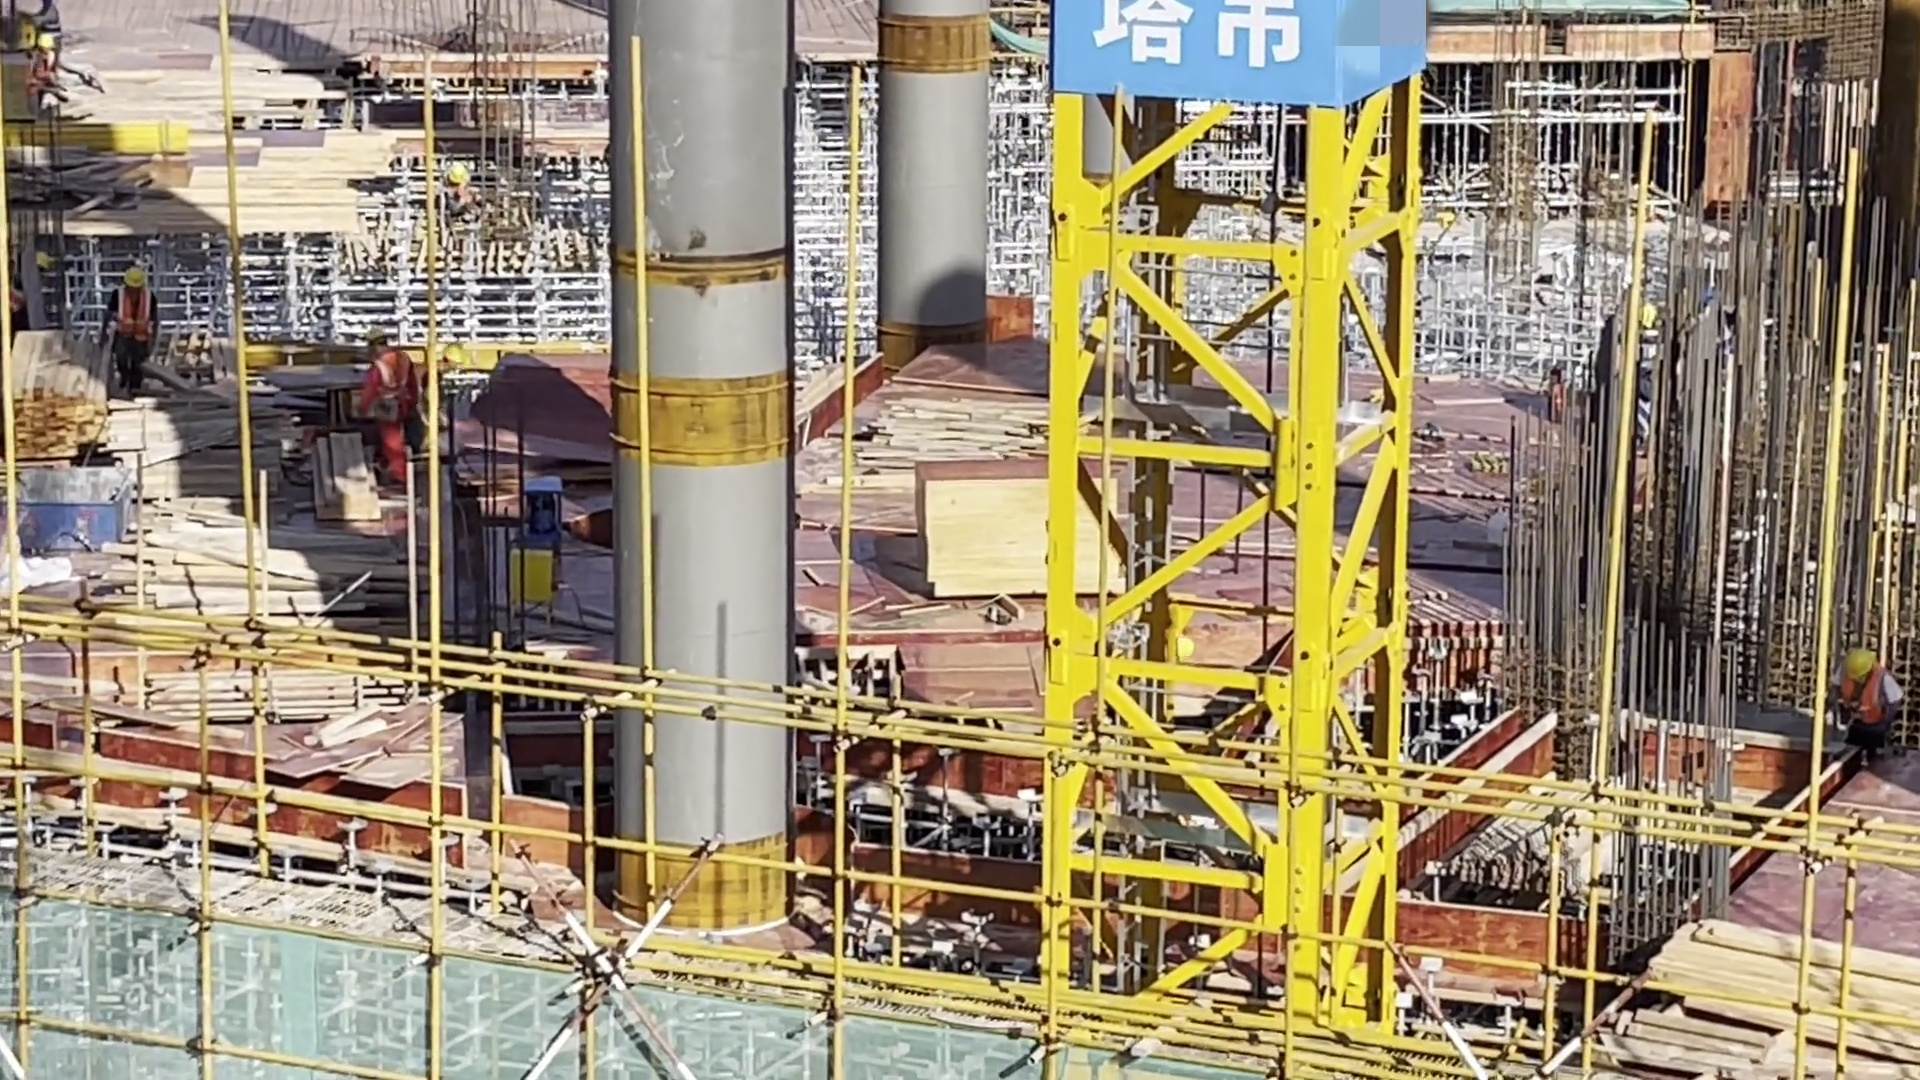board: (912, 463, 1130, 605)
helmet: (1840, 649, 1880, 685), (118, 262, 147, 293), (445, 342, 468, 376), (445, 162, 472, 189), (29, 28, 54, 57), (365, 330, 390, 354)
hopper: (15, 462, 141, 567)
person: (356, 329, 431, 509), (1830, 649, 1904, 794), (106, 258, 161, 408), (26, 22, 80, 116), (444, 156, 481, 237)
slogan: (1056, 1, 1421, 99)
vest: (364, 347, 418, 424), (1835, 668, 1885, 734), (112, 287, 158, 353), (24, 50, 68, 105)
wood: (1652, 903, 1920, 1077), (141, 519, 432, 613), (1, 326, 112, 466), (307, 434, 388, 527)
